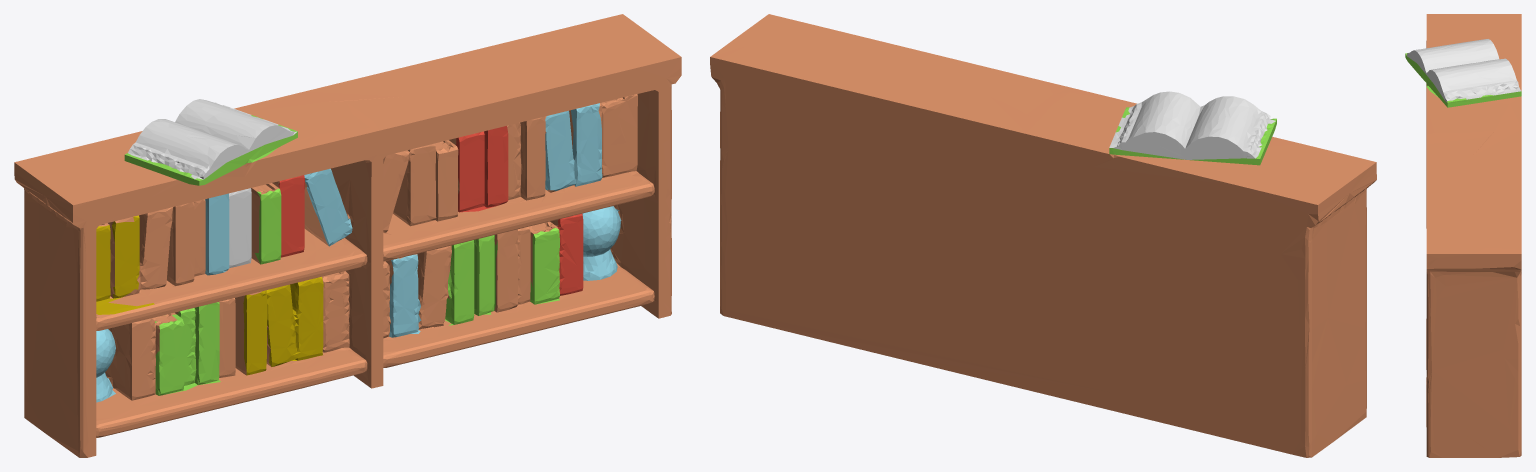
File: 수납장.fbx
3 renders of one model, left to right at view 1: azimuth 30°, elevation 25°; view 2: azimuth 150°, elevation 25°; view 3: azimuth 270°, elevation 25°, orthographic. The views are drawn at different scales.
Parts seen in each view (by area): view 1: Gloomhaven_Bookcase_wBook_2Hex_Solid; view 2: Gloomhaven_Bookcase_wBook_2Hex_Solid; view 3: Gloomhaven_Bookcase_wBook_2Hex_Solid.
Part boxes in pixels (x1,y1,x2,y2): Gloomhaven_Bookcase_wBook_2Hex_Solid: [14, 14, 681, 457]; Gloomhaven_Bookcase_wBook_2Hex_Solid: [710, 14, 1376, 457]; Gloomhaven_Bookcase_wBook_2Hex_Solid: [1405, 14, 1521, 457].
Bounding box in the file's own units: 5771 × 2553 × 1184.
